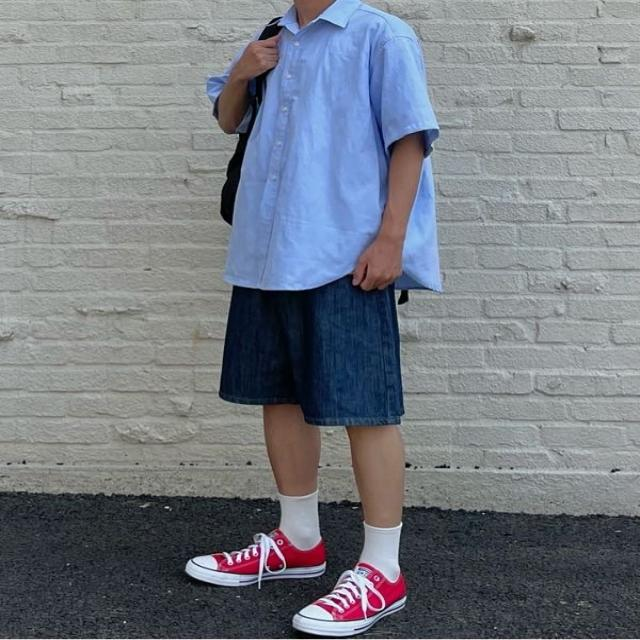shirt: (207, 0, 443, 297)
shortpants: (218, 274, 402, 427)
